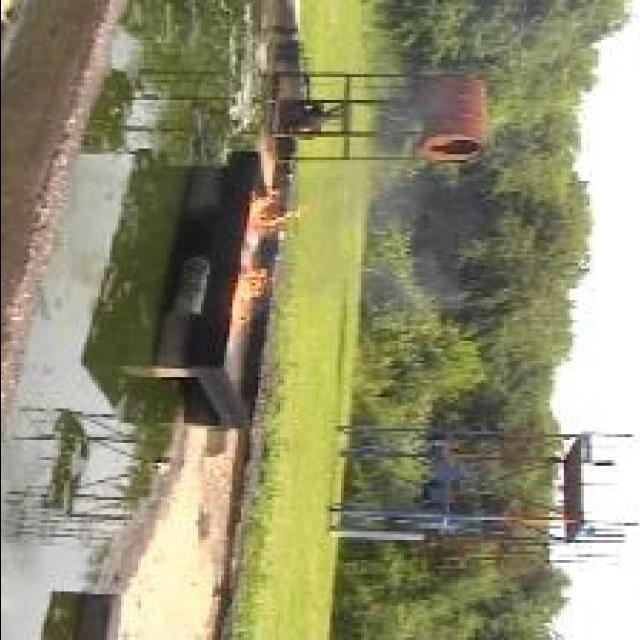Fire: (247, 190, 307, 233), (230, 266, 267, 334)
